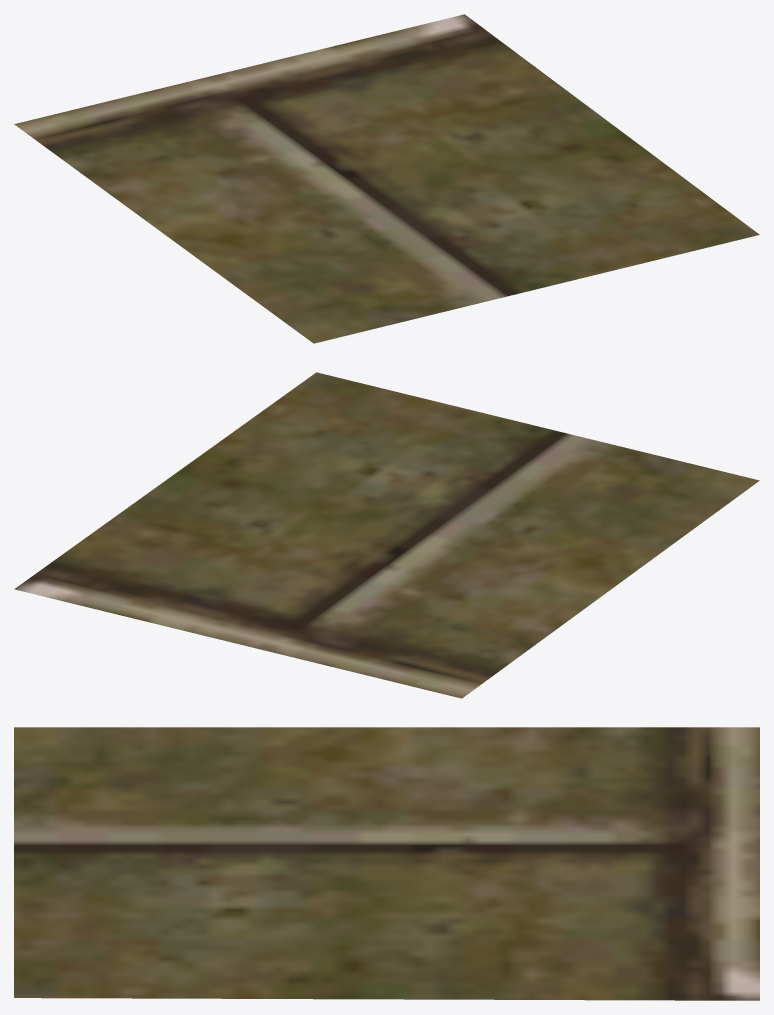
File: CH09_SMAUG_PLAYSURFACE_LAIR502.fbx
3 views of the same model, one above another, from view 1: azimuth 30°, elevation 25°; view 2: azimuth 150°, elevation 25°; view 3: azimuth 270°, elevation 25° (orthographic). The views are drawn at different scales.
Parts seen in each view (by area): view 1: CH09_SMAUG_PLAYSURFACE_LAIR502; view 2: CH09_SMAUG_PLAYSURFACE_LAIR502; view 3: CH09_SMAUG_PLAYSURFACE_LAIR502.
Part boxes in pixels (x1,y1,x2,y2): CH09_SMAUG_PLAYSURFACE_LAIR502: (14,14,759,343); CH09_SMAUG_PLAYSURFACE_LAIR502: (14,372,759,698); CH09_SMAUG_PLAYSURFACE_LAIR502: (14,727,759,1000).
Size of the model in its own units: 14447 by 0.1012 by 16646.
Materials: 1 (1 with a texture image).
